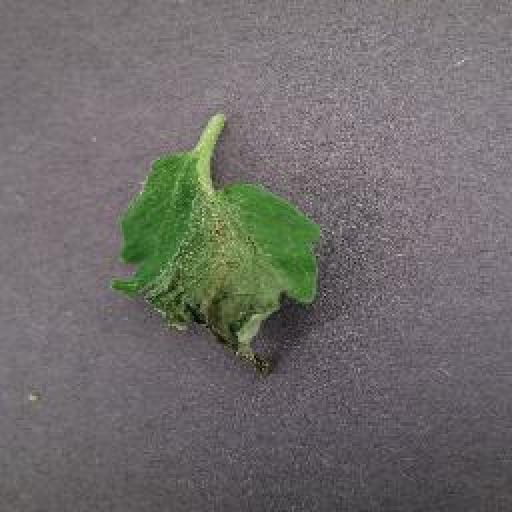disease_tomato: (107, 145, 328, 388)
